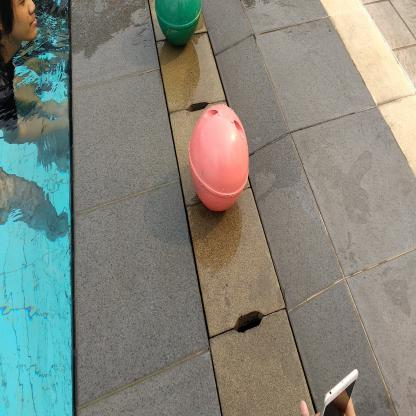red_buoy: (185, 100, 253, 220)
